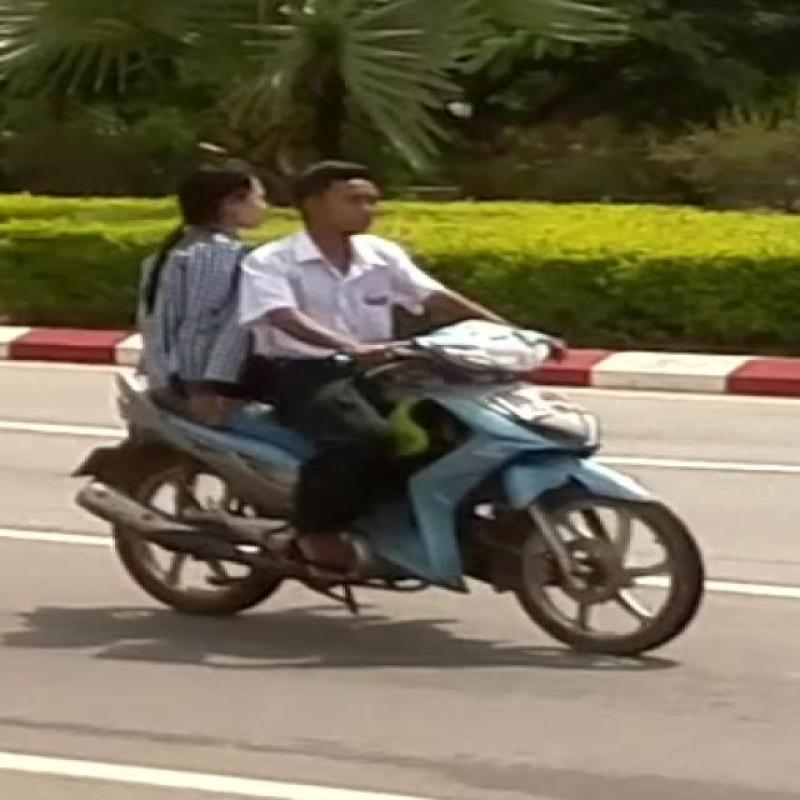nohelmet: (290, 172, 414, 270)
